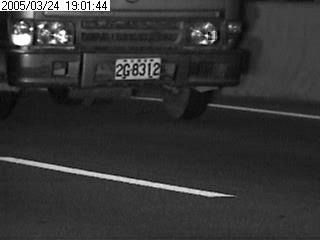plate: (113, 54, 162, 82)
